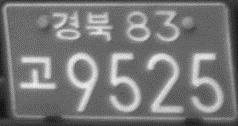2: (145, 51, 185, 115)
3: (153, 9, 180, 42)
5: (190, 50, 224, 114), (108, 51, 142, 113)
8: (124, 9, 151, 42)
9: (65, 50, 99, 112)
경북_O: (50, 9, 114, 43)
고: (17, 54, 59, 92)
